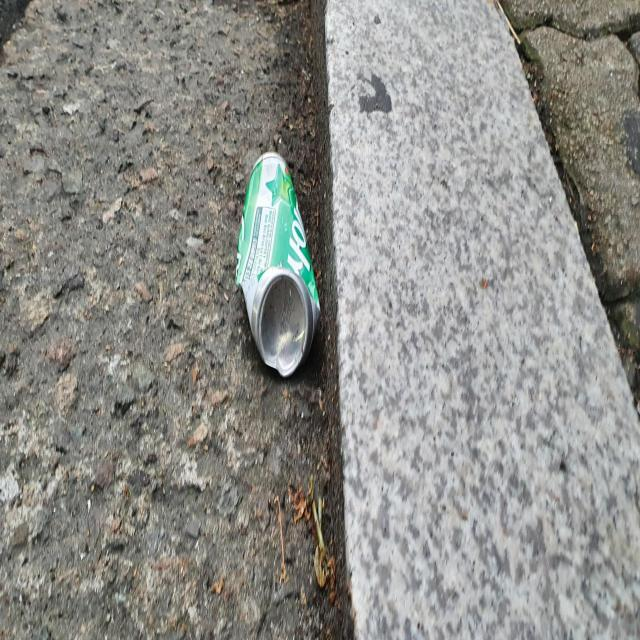can: (236, 151, 320, 376)
